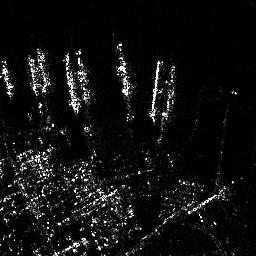ship: (148, 58, 166, 123), (63, 52, 80, 114), (24, 55, 41, 96), (1, 62, 13, 97)
